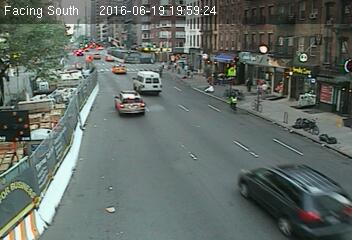neg: (303, 112, 321, 136), (280, 108, 295, 127), (253, 96, 266, 114), (308, 69, 320, 86)
pos: (224, 90, 243, 115), (260, 78, 272, 94)
